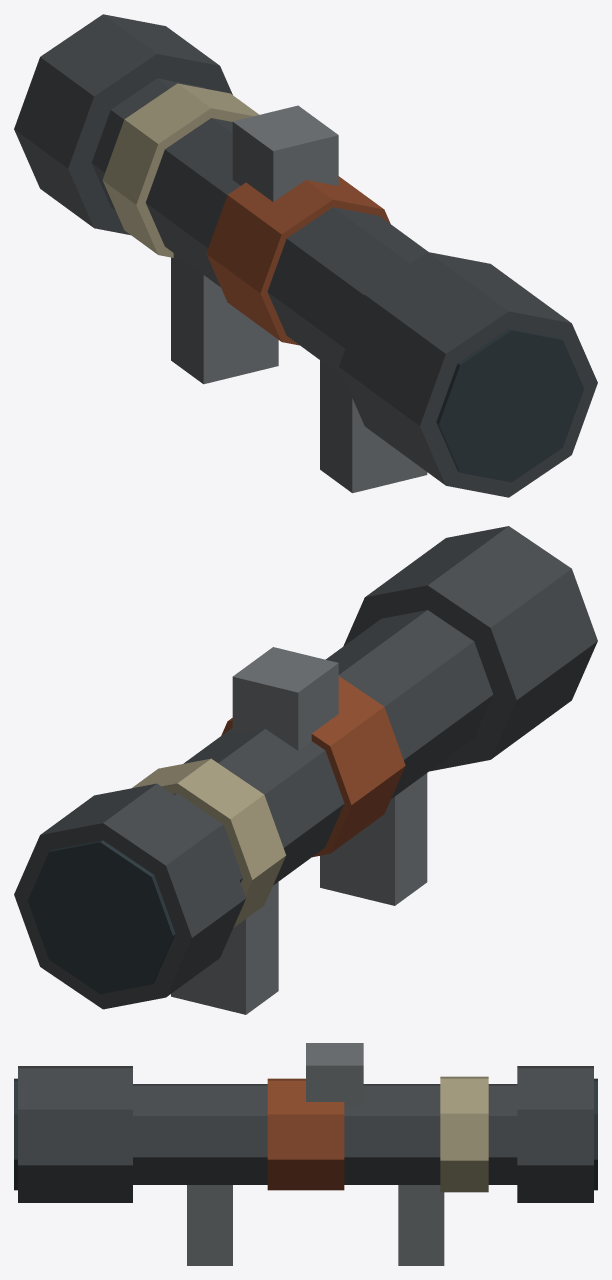
The model's file is mod_scope.glb.
The picture shows the model from 3 angles, top to bottom: view 1: azimuth 30°, elevation 25°; view 2: azimuth 150°, elevation 25°; view 3: azimuth 270°, elevation 25°; orthographic projection. The views are drawn at different scales.
Visible parts, largest first — view 1: scope; view 2: scope; view 3: scope.
Part boxes in pixels (bbox=[...]): scope: bbox=[14, 14, 597, 497]; scope: bbox=[14, 526, 597, 1014]; scope: bbox=[14, 1043, 597, 1265].
Size of the model in its own units: 0.076 by 0.114 by 0.304.
